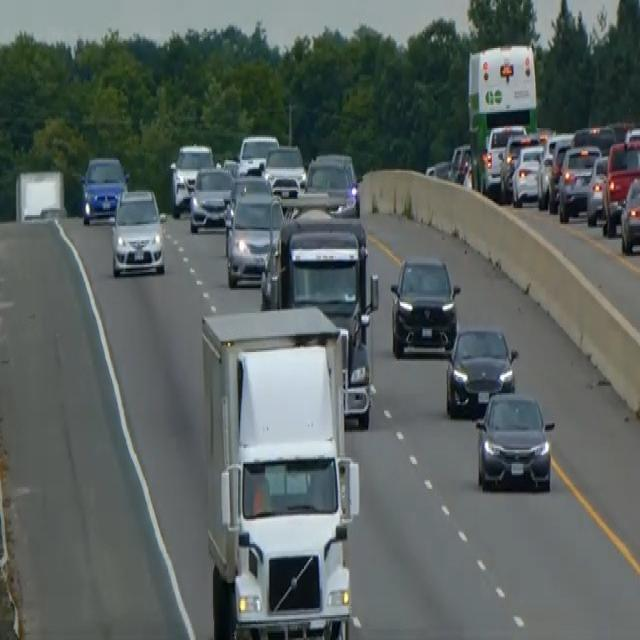bus: (465, 41, 539, 194)
car: (474, 390, 555, 492), (389, 252, 460, 358), (444, 322, 518, 416), (224, 188, 284, 286), (110, 185, 166, 277), (601, 137, 639, 235), (303, 151, 360, 215), (557, 142, 600, 222), (80, 153, 127, 224), (169, 141, 213, 215), (481, 122, 526, 194), (188, 163, 233, 233), (225, 170, 271, 228), (263, 142, 306, 198), (511, 140, 546, 207), (498, 132, 529, 199), (547, 137, 573, 211), (237, 132, 279, 174), (585, 153, 609, 226), (619, 174, 639, 254), (572, 122, 616, 156), (448, 142, 471, 183), (425, 158, 451, 180)
lorry: (199, 303, 360, 636), (260, 210, 379, 428)
